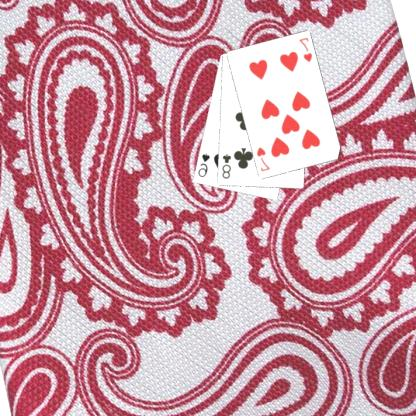7H: (255, 144, 273, 173), (298, 35, 315, 64)
8C: (221, 151, 234, 180)
9S: (197, 151, 213, 179)
